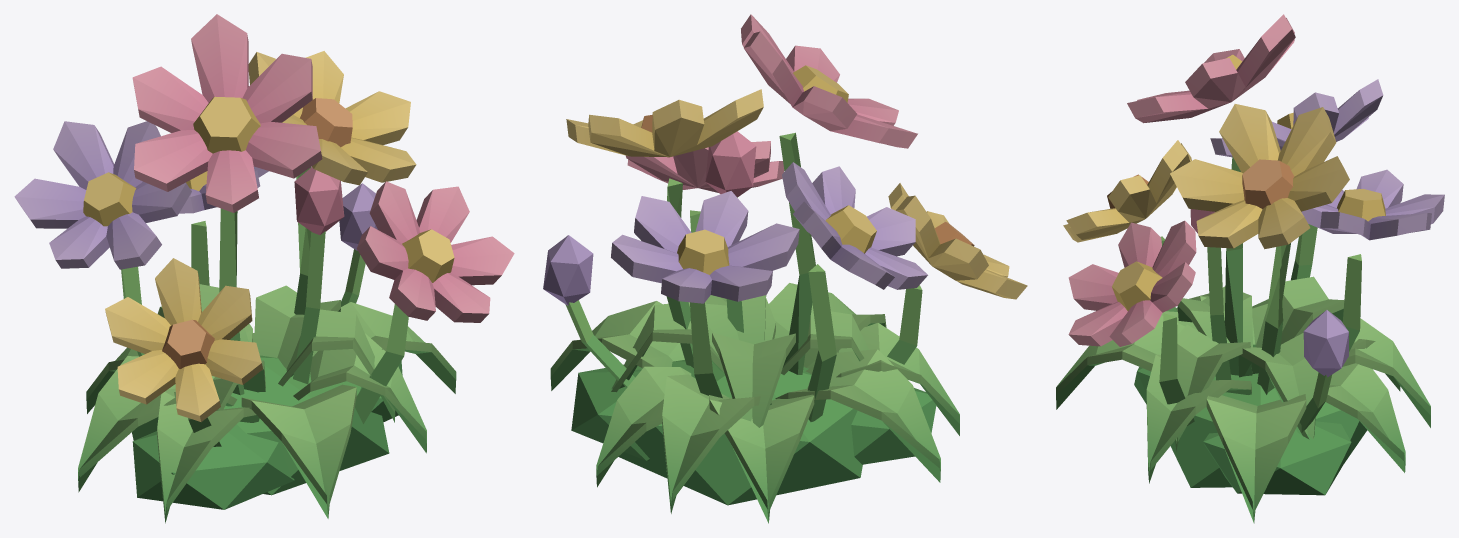
File: decor_wildflower_clump.fbx
3 views of the same model, side by side, from view 1: azimuth 30°, elevation 25°; view 2: azimuth 150°, elevation 25°; view 3: azimuth 270°, elevation 25° (orthographic). The views are drawn at different scales.
Parts seen in each view (by area): view 1: decor_wildflower_clump; view 2: decor_wildflower_clump; view 3: decor_wildflower_clump.
Boxes of the visible parts, x1,y1,x2,y2 form: decor_wildflower_clump: (14,14,514,523); decor_wildflower_clump: (543,14,1027,523); decor_wildflower_clump: (1056,14,1444,523).
Bounding box in the file's own units: 3.37 × 3.76 × 2.93.
